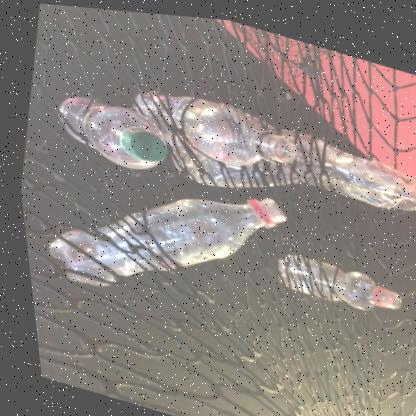Plastic: (167, 98, 416, 203), (43, 193, 281, 284), (130, 89, 294, 161), (55, 95, 163, 166), (271, 250, 395, 303)
Waste: (120, 126, 163, 160)
